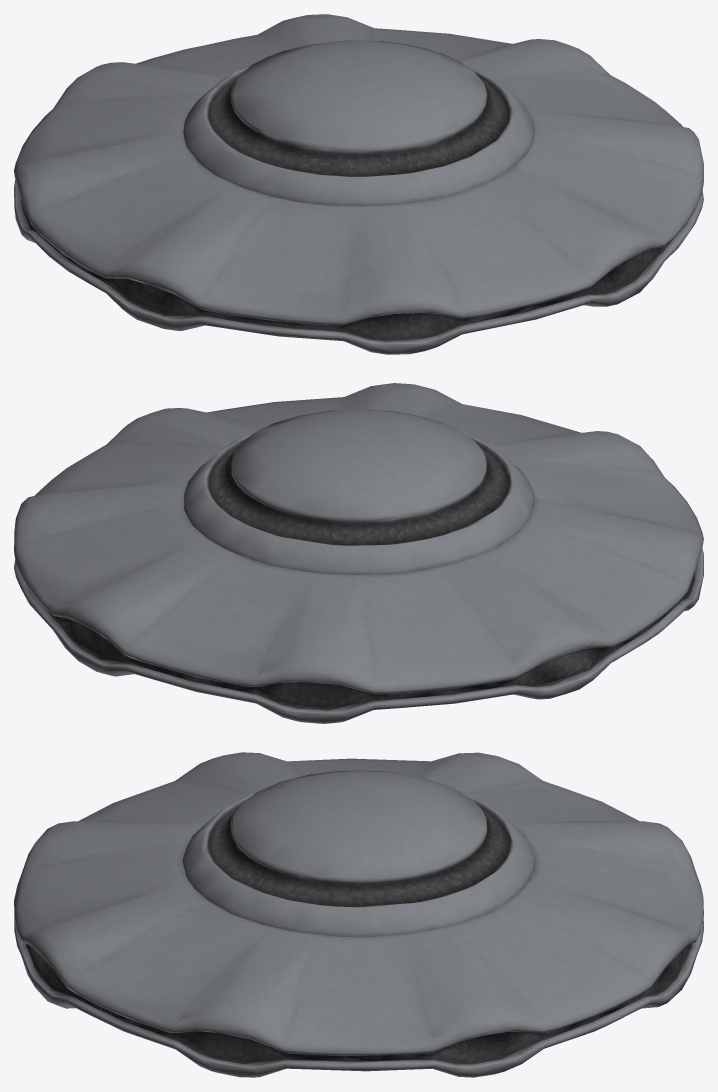
File: ufo_1.obj
3 views of the same model, one above another, from view 1: azimuth 30°, elevation 25°; view 2: azimuth 150°, elevation 25°; view 3: azimuth 270°, elevation 25° (orthographic).
Parts seen in each view (by area): view 1: 13884_UFO_Saucer_v1_l2; view 2: 13884_UFO_Saucer_v1_l2; view 3: 13884_UFO_Saucer_v1_l2.
Boxes of the visible parts, left/top/right/bottom form: 13884_UFO_Saucer_v1_l2: left=14, top=14, right=703, bottom=354; 13884_UFO_Saucer_v1_l2: left=14, top=383, right=703, bottom=723; 13884_UFO_Saucer_v1_l2: left=14, top=752, right=703, bottom=1077.
Bounding box in the file's own units: 3.3 × 1.27 × 3.3.
1 material, 1 textured.
